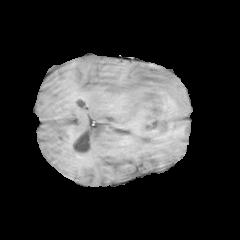glioma: (90, 66, 187, 132)
